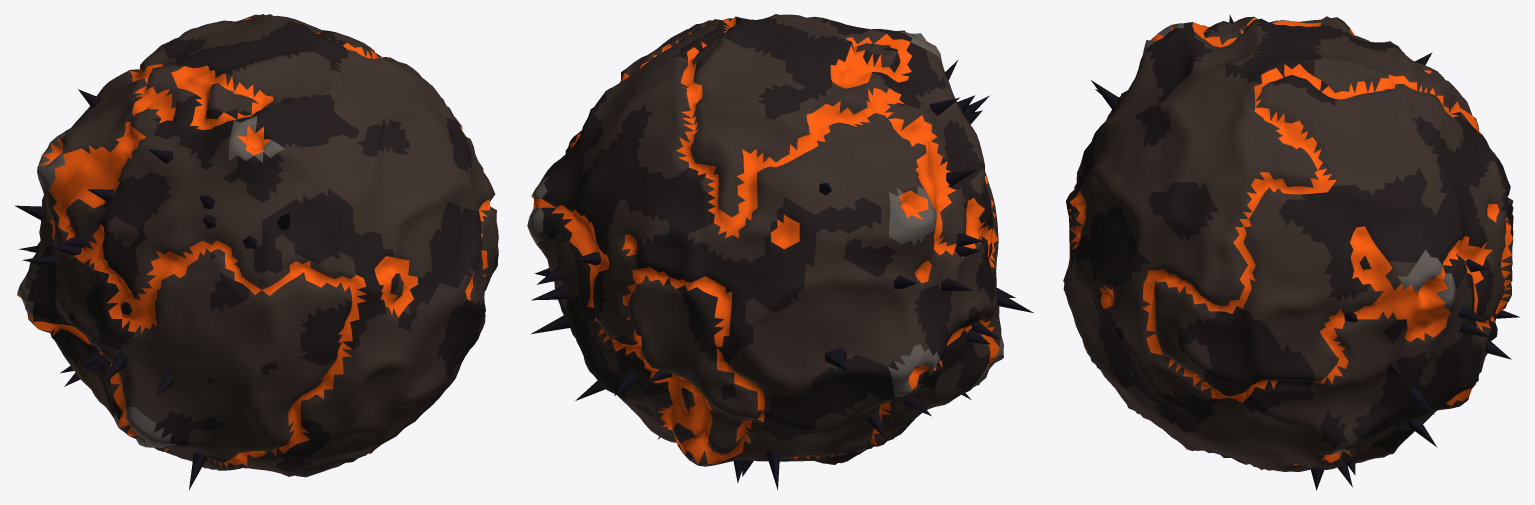
The model's file is Fuego.obj.
3 renders of one model, left to right at view 1: azimuth 30°, elevation 25°; view 2: azimuth 150°, elevation 25°; view 3: azimuth 270°, elevation 25°, orthographic.
Visible parts, largest first — view 1: Planeta_Fuego, Agujas_Obsidiana; view 2: Planeta_Fuego, Agujas_Obsidiana; view 3: Planeta_Fuego, Agujas_Obsidiana.
Part boxes in pixels (<box>): Planeta_Fuego: <box>17,14,498,477</box>; Agujas_Obsidiana: <box>15,89,289,489</box>; Planeta_Fuego: <box>527,14,1003,466</box>; Agujas_Obsidiana: <box>530,60,1033,490</box>; Planeta_Fuego: <box>1063,16,1513,471</box>; Agujas_Obsidiana: <box>1091,14,1519,490</box>.
Bounding box in the file's own units: 11.31 × 10.41 × 10.49.
